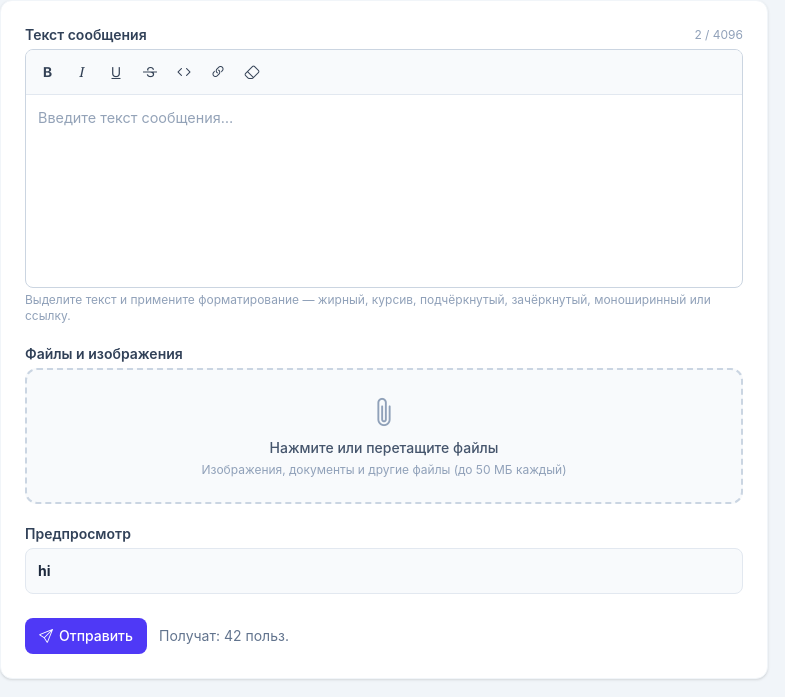
Test: BroadcastView › sends the broadcast as FormData and shows the result
The width and height of the screenshot is (785, 697).
Click the button with test id "send" at (86, 636), box [25,618,147,654]
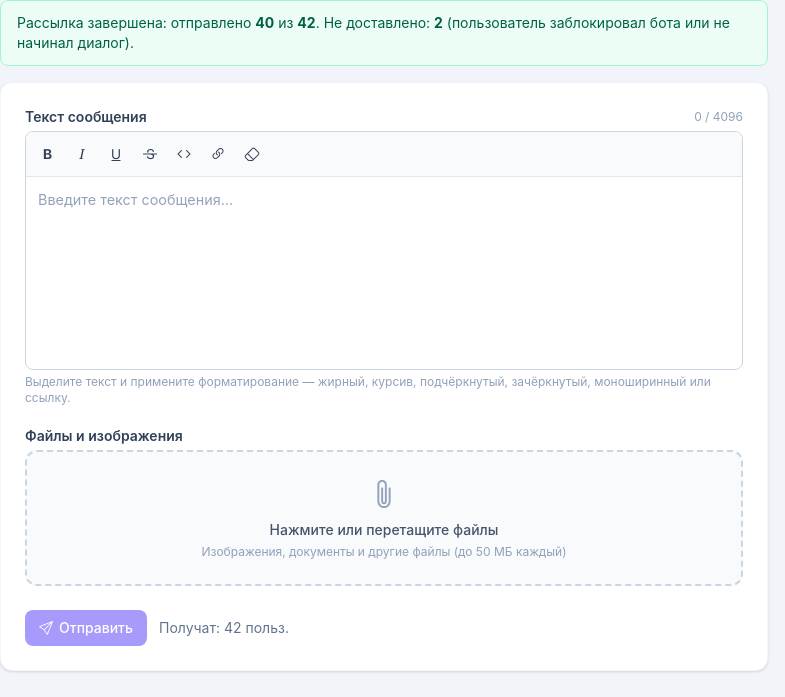
Expected: the element with test id "result" shows "40", [255,14,274,31]
